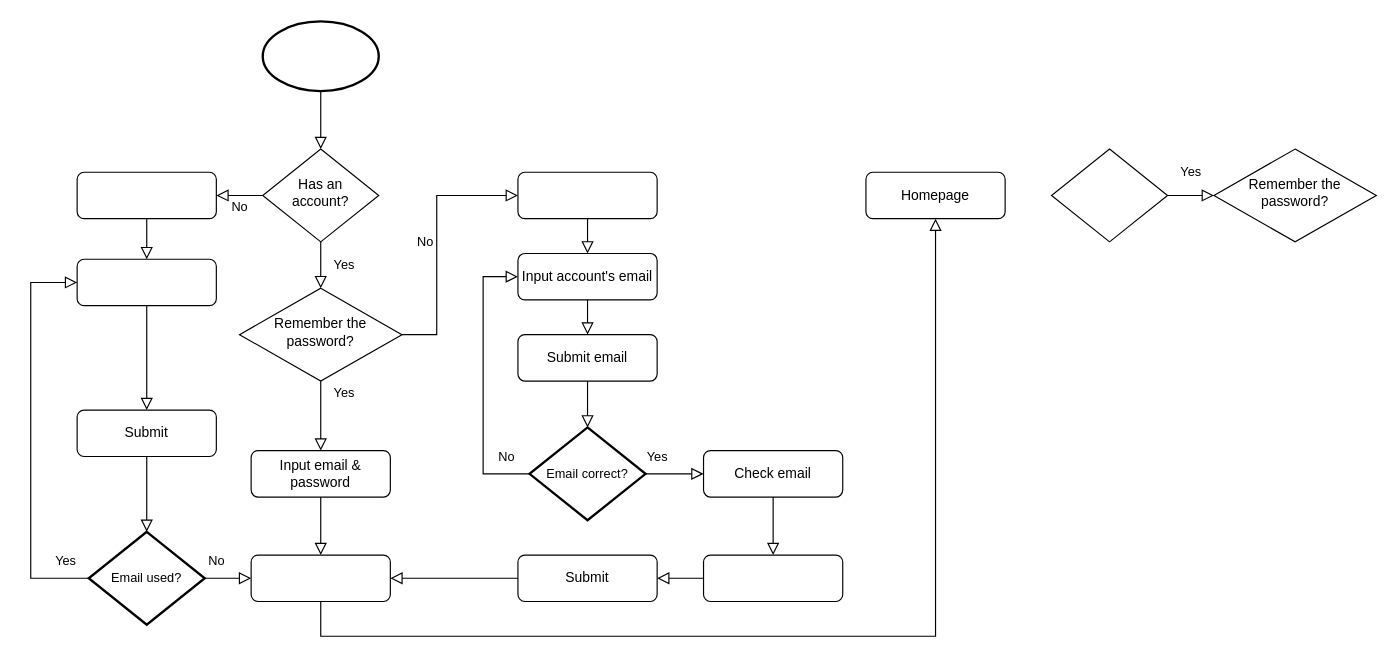
The diagram is 1397 pixels wide and 668 high, and some of its shapes have lost their labels. The box of each missing label's shape, as (x1, y1, x2, y2) in pixels:
FIll out the information: (76, 258, 216, 306)
Input code: (702, 554, 843, 601)
Login: (250, 554, 390, 601)
Register account: (76, 171, 216, 219)
Reset password: (517, 171, 657, 219)
Start: (261, 20, 379, 92)
